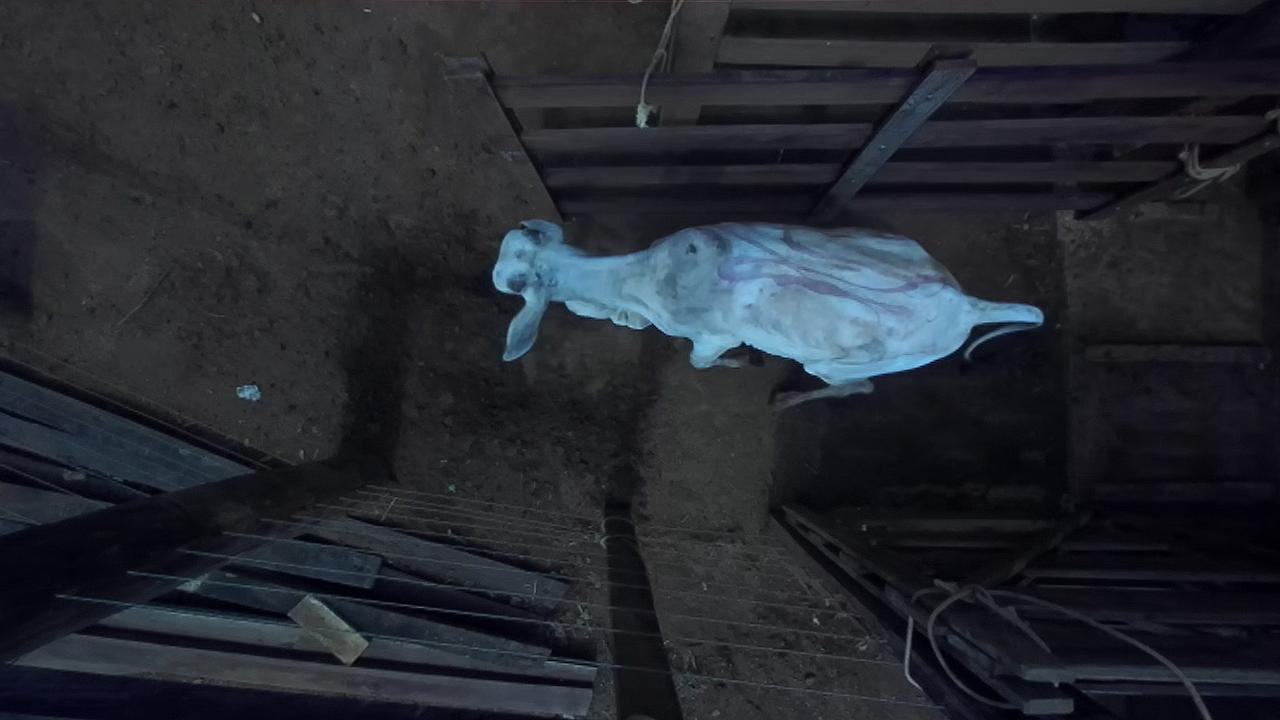cattle: (490, 215, 1045, 411)
